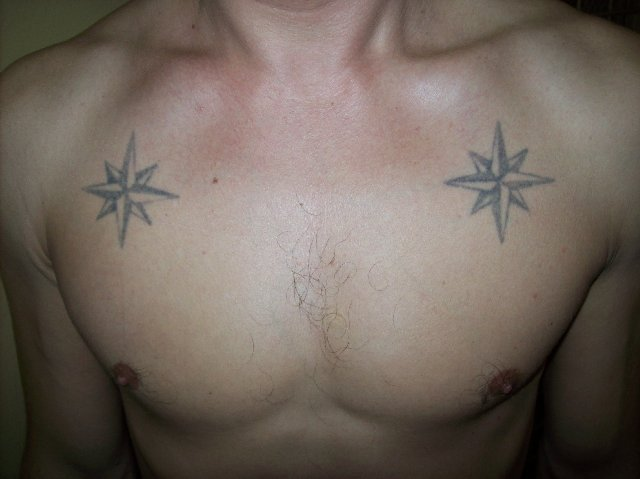tatu4_zvezda: (435, 116, 569, 251), (78, 126, 186, 259)
